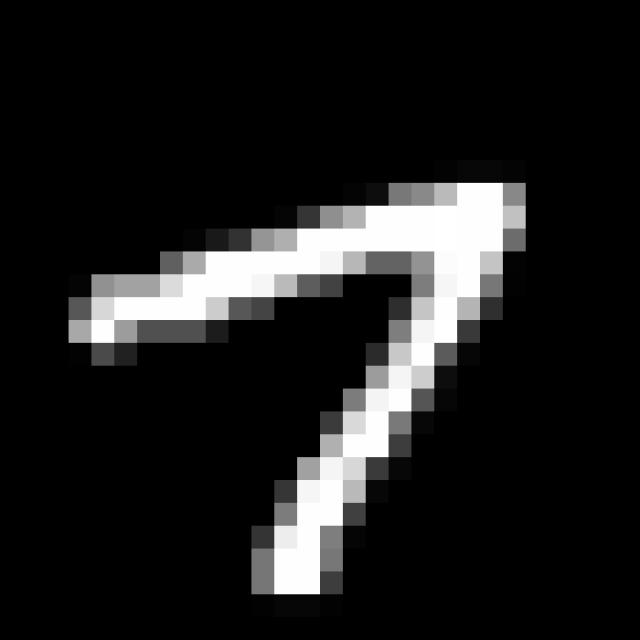seven -7-: (76, 172, 537, 596)
